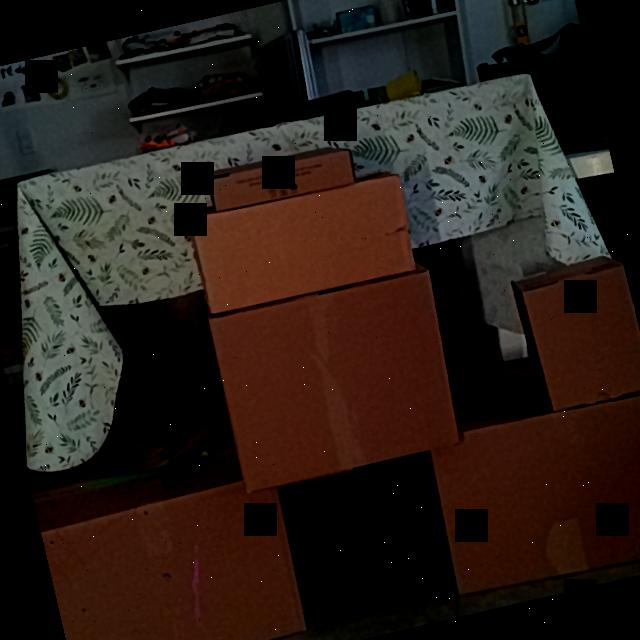box: (207, 271, 462, 492), (428, 388, 640, 596), (41, 479, 308, 640), (188, 172, 420, 314), (522, 265, 640, 413), (210, 149, 356, 212)
